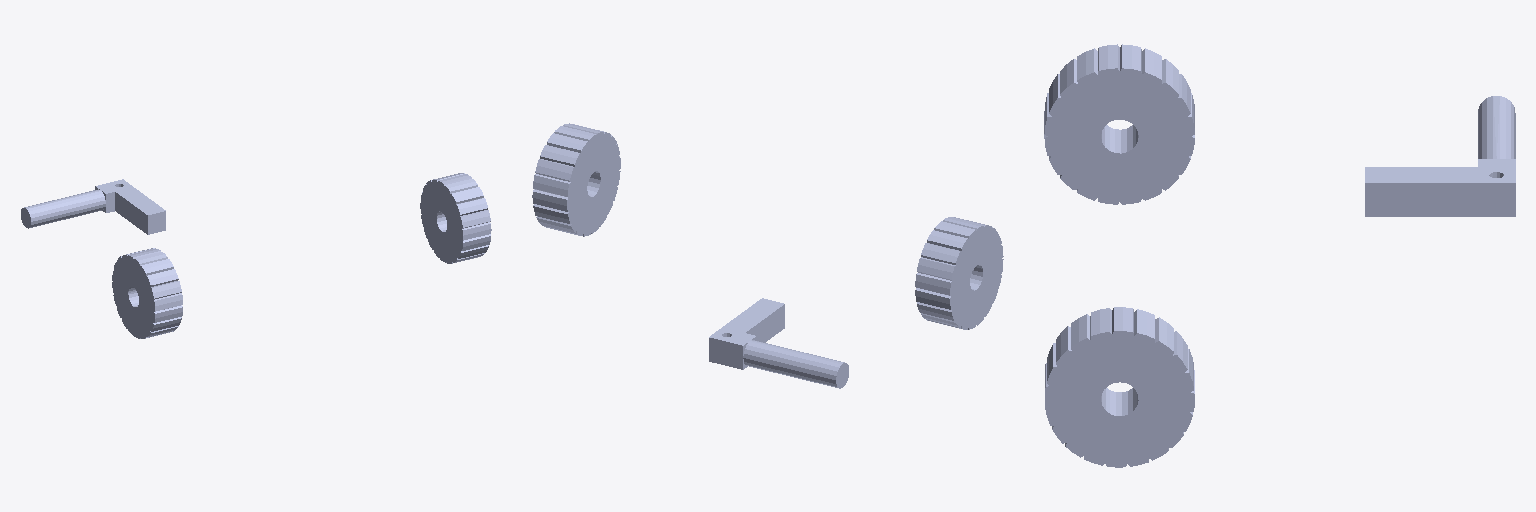
The robot description file, URDF, robot "car_assem4":
<?xml version="1.0" encoding="utf-8"?>
<!-- This URDF was automatically created by SolidWorks to URDF Exporter! Originally created by [author] ([email redacted]) 
     Commit Version: 1.6.0-4-g7f85cfe  Build Version: 1.6.7995.38578
     For more information, please see http://wiki.ros.org/sw_urdf_exporter -->
<robot
  name="car_assem4">
  <link
    name="base_link">
    <inertial>
      <origin
        xyz="-3.09092195103385E-18 0.0321638063426192 0.00145191927012034"
        rpy="0 0 0" />
      <mass
        value="12.8455748904513" />
      <inertia
        ixx="0.625049233645234"
        ixy="1.94855339632518E-18"
        ixz="-2.93387860315225E-17"
        iyy="0.798889835201529"
        iyz="0.000413371338955772"
        izz="0.213323829100684" />
    </inertial>
    <visual>
      <origin
        xyz="0 0 0"
        rpy="0 0 0" />
      <geometry>
        <mesh
          filename="package://car_assem4/meshes/base_link.STL" />
      </geometry>
      <material
        name="">
        <color
          rgba="0.792156862745098 0.819607843137255 0.933333333333333 1" />
      </material>
    </visual>
    <collision>
      <origin
        xyz="0 0 0"
        rpy="0 0 0" />
      <geometry>
        <mesh
          filename="package://car_assem4/meshes/base_link.STL" />
      </geometry>
    </collision>
  </link>
  <link
    name="right_arm_link">
    <inertial>
      <origin
        xyz="0.0651933914576135 -0.025 0.039915225662416"
        rpy="0 0 0" />
      <mass
        value="0.939491118430775" />
      <inertia
        ixx="0.00323160730926106"
        ixy="-3.64873436162627E-20"
        ixz="0.00244475217966051"
        iyy="0.00940297439326515"
        iyz="1.90402896489679E-20"
        izz="0.00652191556233996" />
    </inertial>
    <visual>
      <origin
        xyz="0 0 0"
        rpy="0 0 0" />
      <geometry>
        <mesh
          filename="package://car_assem4/meshes/right_arm_link.STL" />
      </geometry>
      <material
        name="">
        <color
          rgba="0.792156862745098 0.819607843137255 0.933333333333333 1" />
      </material>
    </visual>
    <collision>
      <origin
        xyz="0 0 0"
        rpy="0 0 0" />
      <geometry>
        <mesh
          filename="package://car_assem4/meshes/right_arm_link.STL" />
      </geometry>
    </collision>
  </link>
  <joint
    name="right_arm_joint"
    type="revolute">
    <origin
      xyz="0.2 0.23 0"
      rpy="1.5708 0 0" />
    <parent
      link="base_link" />
    <child
      link="right_arm_link" />
    <axis
      xyz="0 1 0" />
    <limit
      lower="-0.7854"
      upper="0.7854"
      effort="0"
      velocity="0" />
  </joint>
  <link
    name="right_front_wheel_link">
    <inertial>
      <origin
        xyz="0.0375 0 5.55111512312578E-17"
        rpy="0 0 0" />
      <mass
        value="2.18704107668104" />
      <inertia
        ixx="0.0115233152620549"
        ixy="-3.42407737826659E-19"
        ixz="-1.00027537860588E-18"
        iyy="0.0067868331357217"
        iyz="1.24683249835833E-18"
        izz="0.00678683313572171" />
    </inertial>
    <visual>
      <origin
        xyz="0 0 0"
        rpy="0 0 0" />
      <geometry>
        <mesh
          filename="package://car_assem4/meshes/right_front_wheel_link.STL" />
      </geometry>
      <material
        name="">
        <color
          rgba="0.792156862745098 0.819607843137255 0.933333333333333 1" />
      </material>
    </visual>
    <collision>
      <origin
        xyz="0 0 0"
        rpy="0 0 0" />
      <geometry>
        <mesh
          filename="package://car_assem4/meshes/right_front_wheel_link.STL" />
      </geometry>
    </collision>
  </link>
  <joint
    name="right_front_wheel_joint"
    type="continuous">
    <origin
      xyz="0.175 -0.025 0"
      rpy="0.07760112075581 0 0" />
    <parent
      link="right_arm_link" />
    <child
      link="right_front_wheel_link" />
    <axis
      xyz="1 0 0" />
  </joint>
  <link
    name="left_arm_link">
    <inertial>
      <origin
        xyz="0.0651933914576135 0.025 0.039915225662416"
        rpy="0 0 0" />
      <mass
        value="0.939491118430775" />
      <inertia
        ixx="0.00323160730926106"
        ixy="-2.52715101717941E-19"
        ixz="0.00244475217966051"
        iyy="0.00940297439326515"
        iyz="2.04916396109978E-21"
        izz="0.00652191556233996" />
    </inertial>
    <visual>
      <origin
        xyz="0 0 0"
        rpy="0 0 0" />
      <geometry>
        <mesh
          filename="package://car_assem4/meshes/left_arm_link.STL" />
      </geometry>
      <material
        name="">
        <color
          rgba="0.792156862745098 0.819607843137255 0.933333333333333 1" />
      </material>
    </visual>
    <collision>
      <origin
        xyz="0 0 0"
        rpy="0 0 0" />
      <geometry>
        <mesh
          filename="package://car_assem4/meshes/left_arm_link.STL" />
      </geometry>
    </collision>
  </link>
  <joint
    name="left_arm_joint"
    type="revolute">
    <origin
      xyz="-0.2 0.23 0"
      rpy="-1.5708 0 3.1416" />
    <parent
      link="base_link" />
    <child
      link="left_arm_link" />
    <axis
      xyz="0 1 0" />
    <limit
      lower="-0.7854"
      upper="0.7854"
      effort="0"
      velocity="0" />
  </joint>
  <link
    name="left_front_wheel_link">
    <inertial>
      <origin
        xyz="-0.0374999999999999 1.04083408558608E-17 2.77555756156289E-17"
        rpy="0 0 0" />
      <mass
        value="2.18704107668104" />
      <inertia
        ixx="0.0115233152620549"
        ixy="-3.5594612411811E-21"
        ixz="-1.59435601226663E-20"
        iyy="0.00678683313572171"
        iyz="7.94093388050906E-19"
        izz="0.00678683313572171" />
    </inertial>
    <visual>
      <origin
        xyz="0 0 0"
        rpy="0 0 0" />
      <geometry>
        <mesh
          filename="package://car_assem4/meshes/left_front_wheel_link.STL" />
      </geometry>
      <material
        name="">
        <color
          rgba="0.792156862745098 0.819607843137255 0.933333333333333 1" />
      </material>
    </visual>
    <collision>
      <origin
        xyz="0 0 0"
        rpy="0 0 0" />
      <geometry>
        <mesh
          filename="package://car_assem4/meshes/left_front_wheel_link.STL" />
      </geometry>
    </collision>
  </link>
  <joint
    name="left_front_wheel_joint"
    type="continuous">
    <origin
      xyz="0.175 0.025 0"
      rpy="0 0 3.14159265358979" />
    <parent
      link="left_arm_link" />
    <child
      link="left_front_wheel_link" />
    <axis
      xyz="1 0 0" />
  </joint>
  <link
    name="back_axle_link">
    <inertial>
      <origin
        xyz="-1.11022302462516E-16 3.46944695195361E-18 0"
        rpy="0 0 0" />
      <mass
        value="2.00398223686155" />
      <inertia
        ixx="0.00075893987653666"
        ixy="7.94093388050907E-20"
        ixz="8.40123999184203E-19"
        iyy="0.12399586283278"
        iyz="-8.27180612553019E-22"
        izz="0.123990103246249" />
    </inertial>
    <visual>
      <origin
        xyz="0 0 0"
        rpy="0 0 0" />
      <geometry>
        <mesh
          filename="package://car_assem4/meshes/back_axle_link.STL" />
      </geometry>
      <material
        name="">
        <color
          rgba="0.792156862745098 0.819607843137255 0.933333333333333 1" />
      </material>
    </visual>
    <collision>
      <origin
        xyz="0 0 0"
        rpy="0 0 0" />
      <geometry>
        <mesh
          filename="package://car_assem4/meshes/back_axle_link.STL" />
      </geometry>
    </collision>
  </link>
  <joint
    name="back_axle_joint"
    type="fixed">
    <origin
      xyz="0 -0.27 -0.025"
      rpy="1.5708 0 0" />
    <parent
      link="base_link" />
    <child
      link="back_axle_link" />
    <axis
      xyz="0 0 0" />
  </joint>
  <link
    name="back_right_wheel_link">
    <inertial>
      <origin
        xyz="0.0375 -5.55111512312578E-17 -2.77555756156289E-17"
        rpy="0 0 0" />
      <mass
        value="2.18704107668104" />
      <inertia
        ixx="0.0115233152620549"
        ixy="-1.56834238362617E-19"
        ixz="3.41993140725428E-20"
        iyy="0.00678683313572171"
        iyz="-2.60208521396521E-18"
        izz="0.00678683313572171" />
    </inertial>
    <visual>
      <origin
        xyz="0 0 0"
        rpy="0 0 0" />
      <geometry>
        <mesh
          filename="package://car_assem4/meshes/back_right_wheel_link.STL" />
      </geometry>
      <material
        name="">
        <color
          rgba="0.792156862745098 0.819607843137255 0.933333333333333 1" />
      </material>
    </visual>
    <collision>
      <origin
        xyz="0 0 0"
        rpy="0 0 0" />
      <geometry>
        <mesh
          filename="package://car_assem4/meshes/back_right_wheel_link.STL" />
      </geometry>
    </collision>
  </link>
  <joint
    name="back_right_wheel_joint"
    type="continuous">
    <origin
      xyz="0.375 0 0"
      rpy="1.05095356071944 0 0" />
    <parent
      link="back_axle_link" />
    <child
      link="back_right_wheel_link" />
    <axis
      xyz="1 0 0" />
  </joint>
  <link
    name="back_left_wheel_link">
    <inertial>
      <origin
        xyz="-0.0374999999999999 -1.04083408558608E-17 -5.55111512312578E-17"
        rpy="0 0 0" />
      <mass
        value="2.18704107668104" />
      <inertia
        ixx="0.0115233152620549"
        ixy="-1.41479709179756E-19"
        ixz="-9.11470687739285E-20"
        iyy="0.00678683313572171"
        iyz="-3.67268191973544E-19"
        izz="0.00678683313572171" />
    </inertial>
    <visual>
      <origin
        xyz="0 0 0"
        rpy="0 0 0" />
      <geometry>
        <mesh
          filename="package://car_assem4/meshes/back_left_wheel_link.STL" />
      </geometry>
      <material
        name="">
        <color
          rgba="0.792156862745098 0.819607843137255 0.933333333333333 1" />
      </material>
    </visual>
    <collision>
      <origin
        xyz="0 0 0"
        rpy="0 0 0" />
      <geometry>
        <mesh
          filename="package://car_assem4/meshes/back_left_wheel_link.STL" />
      </geometry>
    </collision>
  </link>
  <joint
    name="back_left_wheel_joint"
    type="continuous">
    <origin
      xyz="-0.375 0 0"
      rpy="0 0 0" />
    <parent
      link="back_axle_link" />
    <child
      link="back_left_wheel_link" />
    <axis
      xyz="1 0 0" />
  </joint>
  <link
    name="trailer_body_link">
    <inertial>
      <origin
        xyz="1.40520811834791E-16 0.0153059735469873 0.438714794679746"
        rpy="0 0 0" />
      <mass
        value="7.71727875959474" />
      <inertia
        ixx="0.189109748166744"
        ixy="-2.93154904122919E-19"
        ixz="-2.26161238742952E-17"
        iyy="0.344210482149803"
        iyz="0.000844263187931335"
        izz="0.156272622704335" />
    </inertial>
    <visual>
      <origin
        xyz="0 0 0"
        rpy="0 0 0" />
      <geometry>
        <mesh
          filename="package://car_assem4/meshes/trailer_body_link.STL" />
      </geometry>
      <material
        name="">
        <color
          rgba="0.792156862745098 0.819607843137255 0.933333333333333 1" />
      </material>
    </visual>
    <collision>
      <origin
        xyz="0 0 0"
        rpy="0 0 0" />
      <geometry>
        <mesh
          filename="package://car_assem4/meshes/trailer_body_link.STL" />
      </geometry>
    </collision>
  </link>
  <joint
    name="trailer_body_joint"
    type="revolute">
    <origin
      xyz="0 -0.4 0"
      rpy="1.5708 0 0" />
    <parent
      link="base_link" />
    <child
      link="trailer_body_link" />
    <axis
      xyz="0 1 0" />
    <limit
      lower="-0.69813"
      upper="0.69813"
      effort="0"
      velocity="0" />
  </joint>
  <link
    name="trailer_axle_link">
    <inertial>
      <origin
        xyz="1.11022302462516E-16 3.46944695195361E-18 0"
        rpy="0 0 0" />
      <mass
        value="2.00398223686155" />
      <inertia
        ixx="0.000758939876536661"
        ixy="-1.98523347012727E-20"
        ixz="8.40415502353876E-19"
        iyy="0.12399586283278"
        iyz="9.92616735063633E-21"
        izz="0.123990103246249" />
    </inertial>
    <visual>
      <origin
        xyz="0 0 0"
        rpy="0 0 0" />
      <geometry>
        <mesh
          filename="package://car_assem4/meshes/trailer_axle_link.STL" />
      </geometry>
      <material
        name="">
        <color
          rgba="0.792156862745098 0.819607843137255 0.933333333333333 1" />
      </material>
    </visual>
    <collision>
      <origin
        xyz="0 0 0"
        rpy="0 0 0" />
      <geometry>
        <mesh
          filename="package://car_assem4/meshes/trailer_axle_link.STL" />
      </geometry>
    </collision>
  </link>
  <joint
    name="trailer_axle_joint"
    type="fixed">
    <origin
      xyz="0 -0.025 0.45"
      rpy="0 0 0" />
    <parent
      link="trailer_body_link" />
    <child
      link="trailer_axle_link" />
    <axis
      xyz="0 0 0" />
  </joint>
  <link
    name="trailer_right_wheel_link">
    <inertial>
      <origin
        xyz="0.0375 1.11022302462516E-16 -1.11022302462516E-16"
        rpy="0 0 0" />
      <mass
        value="2.18704107668104" />
      <inertia
        ixx="0.011523315262055"
        ixy="-5.24555349363391E-21"
        ixz="-1.02150404318497E-19"
        iyy="0.00678683313572171"
        iyz="-2.38524477946811E-18"
        izz="0.00678683313572172" />
    </inertial>
    <visual>
      <origin
        xyz="0 0 0"
        rpy="0 0 0" />
      <geometry>
        <mesh
          filename="package://car_assem4/meshes/trailer_right_wheel_link.STL" />
      </geometry>
      <material
        name="">
        <color
          rgba="0.792156862745098 0.819607843137255 0.933333333333333 1" />
      </material>
    </visual>
    <collision>
      <origin
        xyz="0 0 0"
        rpy="0 0 0" />
      <geometry>
        <mesh
          filename="package://car_assem4/meshes/trailer_right_wheel_link.STL" />
      </geometry>
    </collision>
  </link>
  <joint
    name="trailer_right_wheel_joint"
    type="continuous">
    <origin
      xyz="0.375 0 0"
      rpy="-1.2106744247551 0 0" />
    <parent
      link="trailer_axle_link" />
    <child
      link="trailer_right_wheel_link" />
    <axis
      xyz="1 0 0" />
  </joint>
  <link
    name="trailer_left_wheel_link">
    <inertial>
      <origin
        xyz="-0.0375 -3.12250225675825E-17 1.11022302462516E-16"
        rpy="0 0 0" />
      <mass
        value="2.18704107668104" />
      <inertia
        ixx="0.0115233152620549"
        ixy="-6.81047846994561E-21"
        ixz="-7.01238856164846E-20"
        iyy="0.00678683313572171"
        iyz="3.6065074707312E-19"
        izz="0.00678683313572171" />
    </inertial>
    <visual>
      <origin
        xyz="0 0 0"
        rpy="0 0 0" />
      <geometry>
        <mesh
          filename="package://car_assem4/meshes/trailer_left_wheel_link.STL" />
      </geometry>
      <material
        name="">
        <color
          rgba="0.792156862745098 0.819607843137255 0.933333333333333 1" />
      </material>
    </visual>
    <collision>
      <origin
        xyz="0 0 0"
        rpy="0 0 0" />
      <geometry>
        <mesh
          filename="package://car_assem4/meshes/trailer_left_wheel_link.STL" />
      </geometry>
    </collision>
  </link>
  <joint
    name="trailer_left_wheel_joint"
    type="continuous">
    <origin
      xyz="-0.375 0 0"
      rpy="0 0 0" />
    <parent
      link="trailer_axle_link" />
    <child
      link="trailer_left_wheel_link" />
    <axis
      xyz="1 0 0" />
  </joint>
</robot>

--- What the picture shows (computed from the rendered views, not written in the file) ---
Views: 3 orthographic renders of the robot side by side, from view 1: azimuth 30°, elevation 25°; view 2: azimuth 150°, elevation 25°; view 3: azimuth 270°, elevation 25°.
Model car_assem4 with 12 links and 11 joints (3 revolute, 6 continuous, 2 fixed), rooted at base_link, posed every joint at zero.
Links seen in each view (by area): view 1: back_left_wheel_link, back_right_wheel_link, left_arm_link; view 2: back_left_wheel_link, back_right_wheel_link, left_arm_link; view 3: back_left_wheel_link, back_right_wheel_link, left_arm_link.
Link boxes in pixels (x1=…): back_left_wheel_link: x1=112, y1=248, x2=182, y2=338; back_right_wheel_link: x1=420, y1=173, x2=491, y2=263; left_arm_link: x1=21, y1=179, x2=165, y2=234; back_left_wheel_link: x1=915, y1=217, x2=1003, y2=329; back_right_wheel_link: x1=532, y1=123, x2=620, y2=236; left_arm_link: x1=709, y1=298, x2=848, y2=388; back_left_wheel_link: x1=1044, y1=44, x2=1194, y2=204; back_right_wheel_link: x1=1045, y1=307, x2=1194, y2=467; left_arm_link: x1=1365, y1=96, x2=1515, y2=216.
Size in the robot's own frame: 0.9 by 0.625 by 0.1999 metres.
3 mesh visuals loaded from 12 distinct referenced files (3 binary STL); not drawn: 9 (reference not matched to a file when rendering).